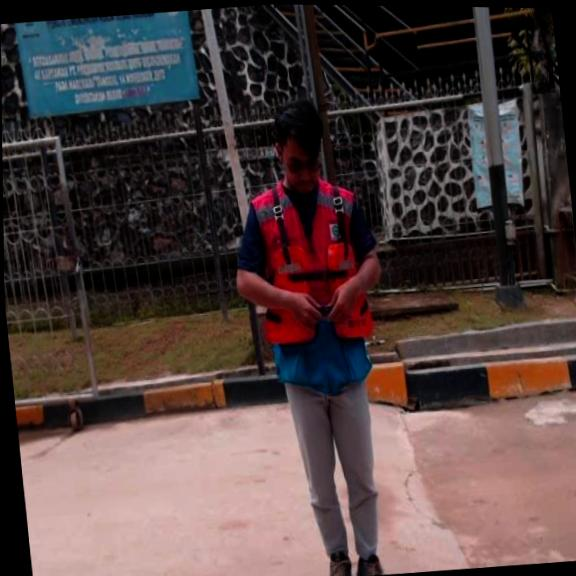safety_vest: (257, 234, 380, 353)
